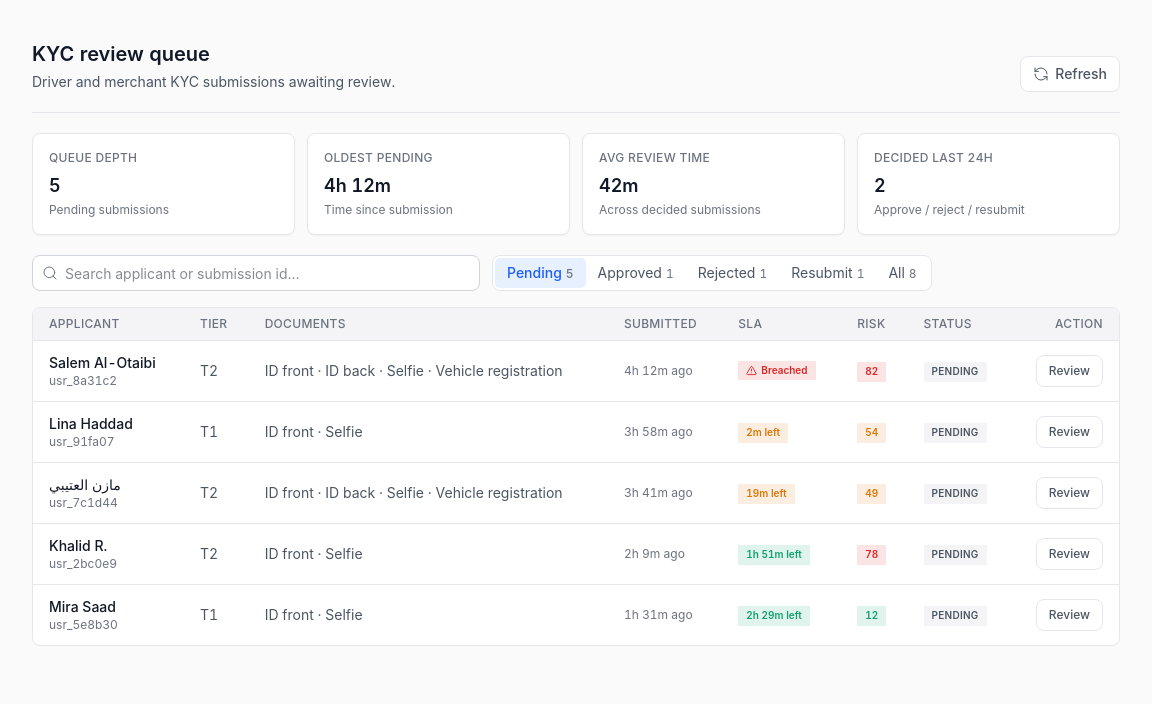
Test: <KycQueuePage /> › opens the review drawer and shows ID, selfie and vehicle registration tabs
What coordinates should you click on to do the following:
click the button named "review salem al-otaibi"
I would click on:
 (1069, 371)
Its box is [1036,355,1103,387].
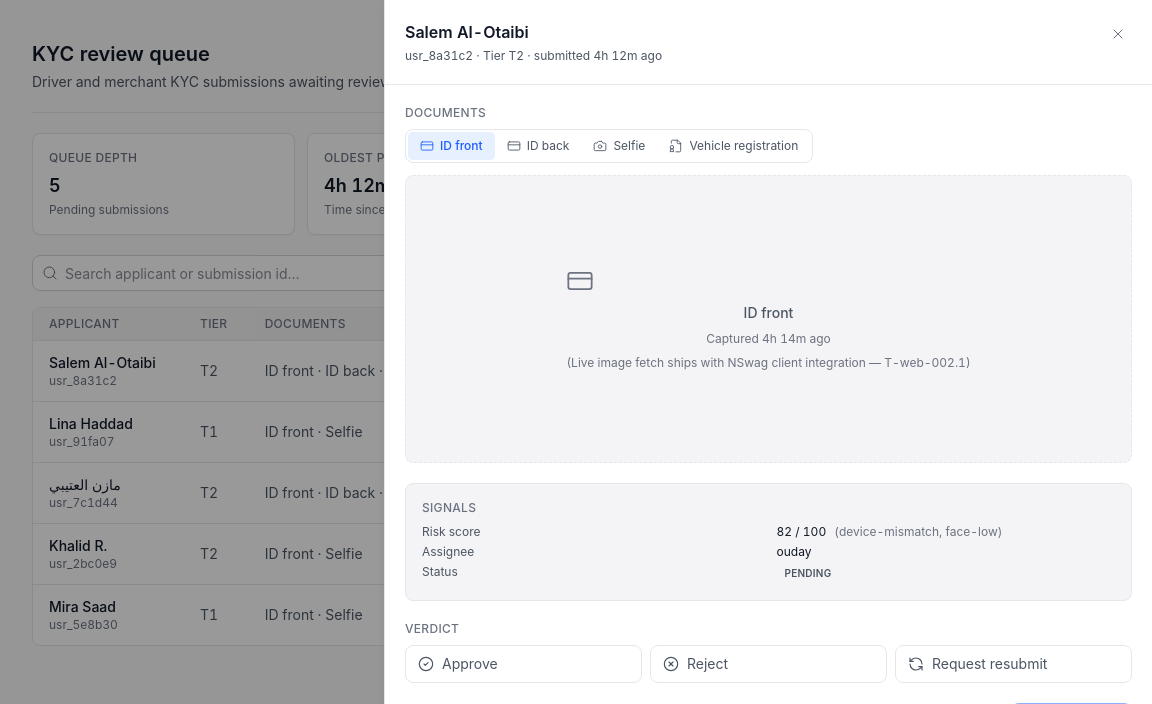
Now the tab "ID front" is shown, box [408,132,495,160]
Now the tab "ID back" is shown, box [495,132,582,160]
Now the tab "Selfie" is shown, box [581,132,657,160]
